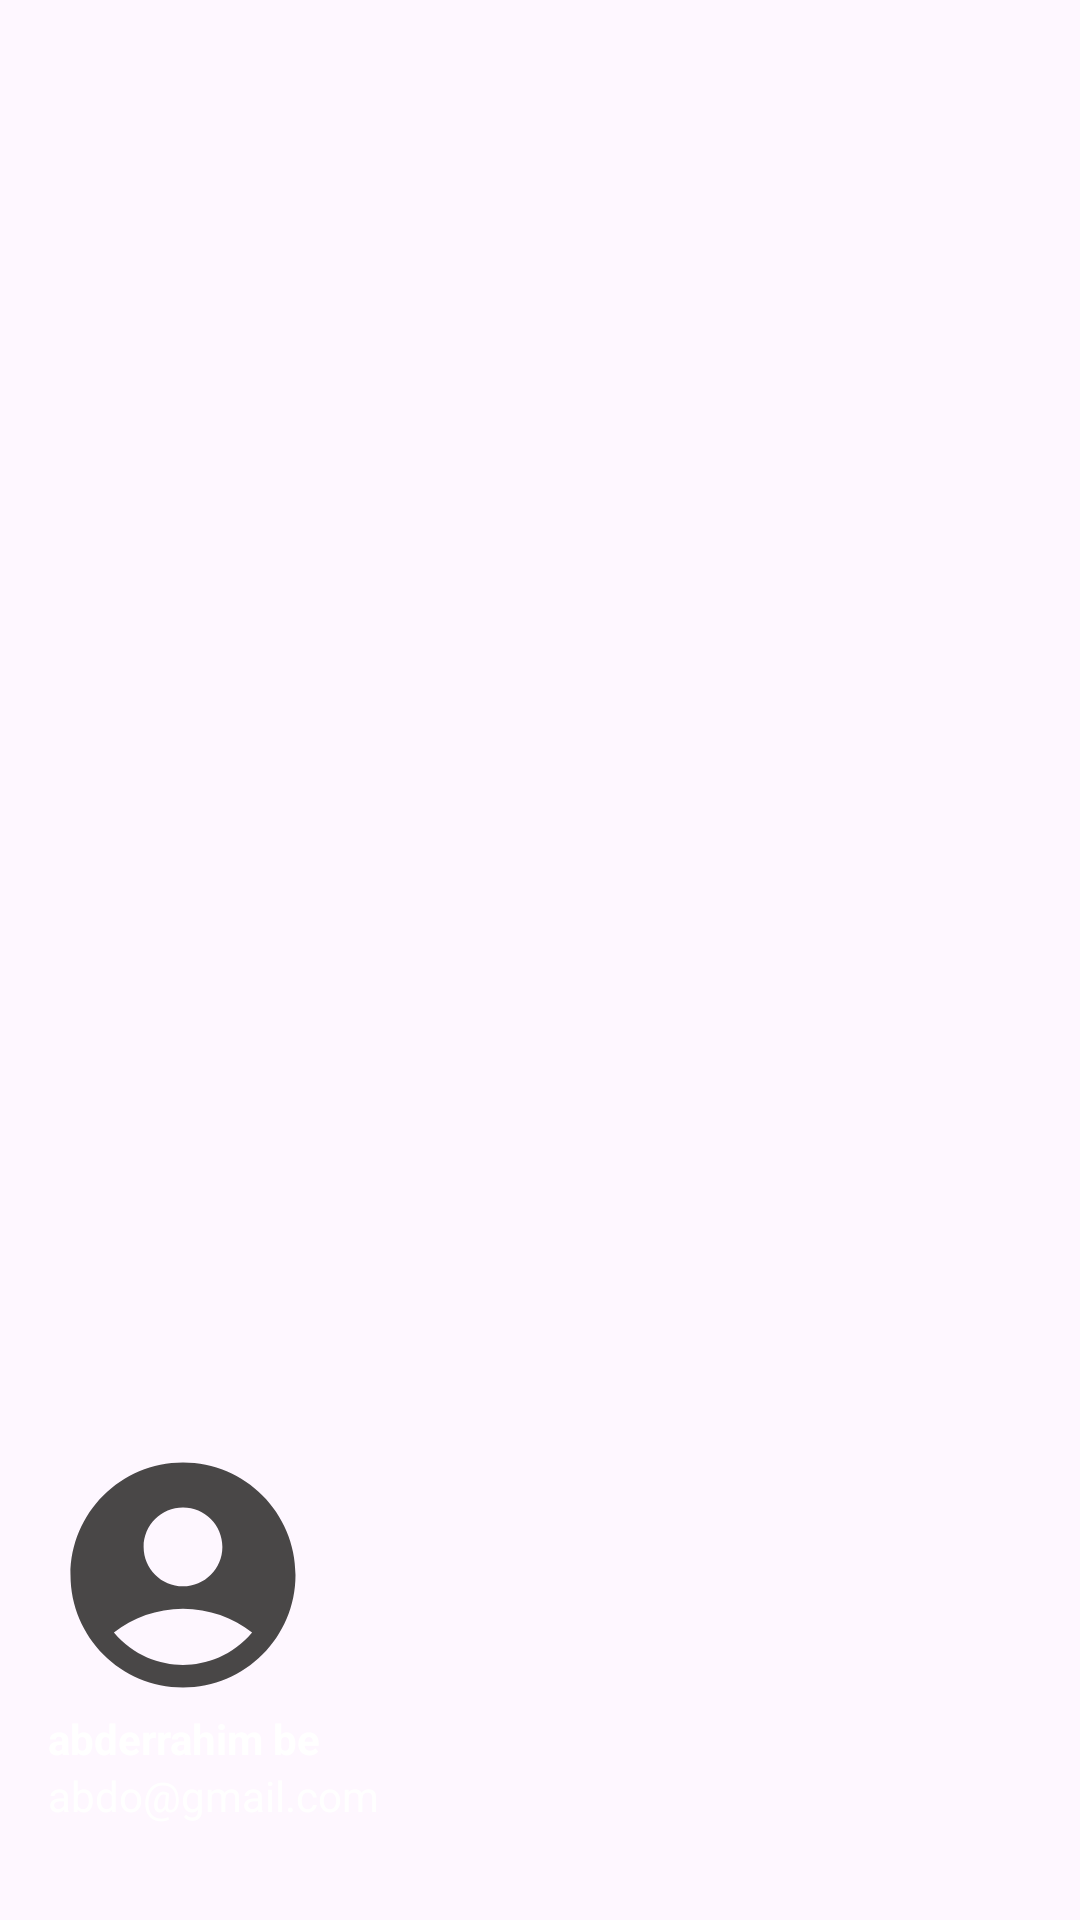

Named icons in this screenshot (1080×1920) and their centers, point (x, y):
account: point (183, 1575)
